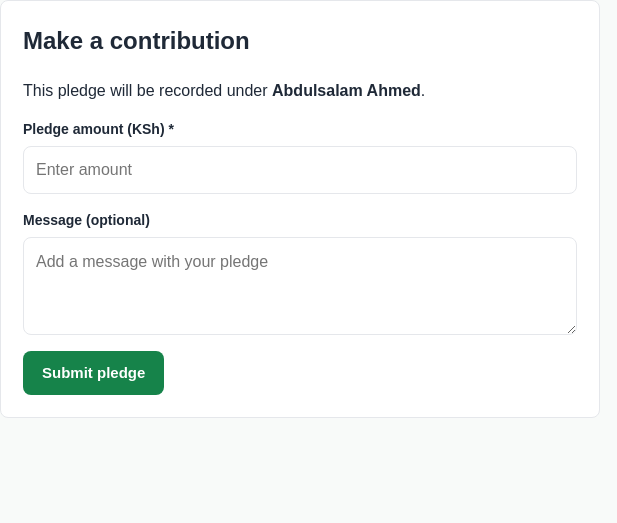
Scenario: PledgeForm › rejects an amount above KSh 10,000,000
Type "10000001" into the number field labelled "Pledge amount (KSh) *" at (300, 170), box [23,146,577,194]
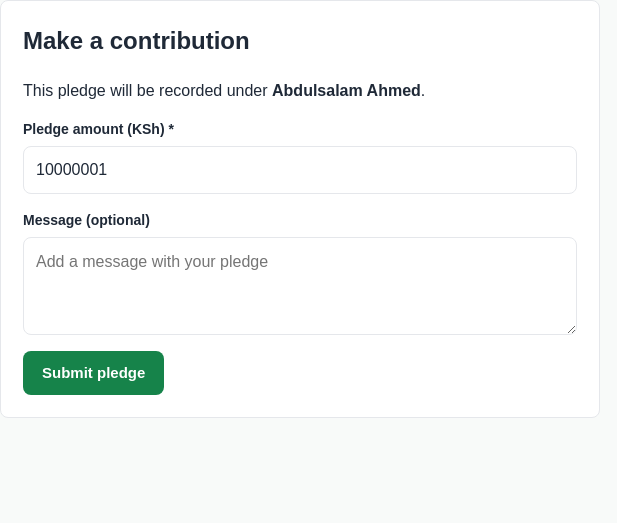
Submit the form named "submit pledge"
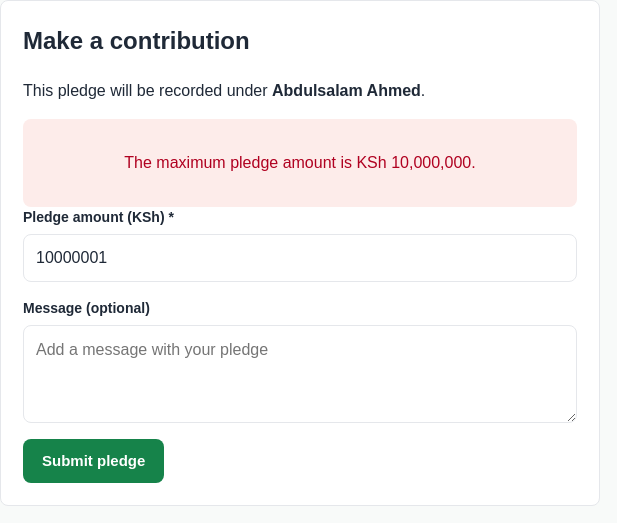
Result: the text "The maximum pledge amount is KSh 10,000,000." is shown at [23,119,577,207]
